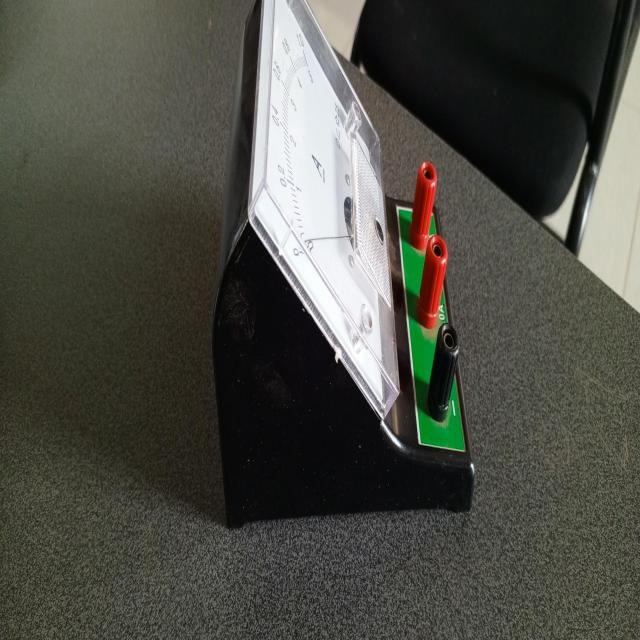Ammeter Analog: (204, 1, 476, 536)
